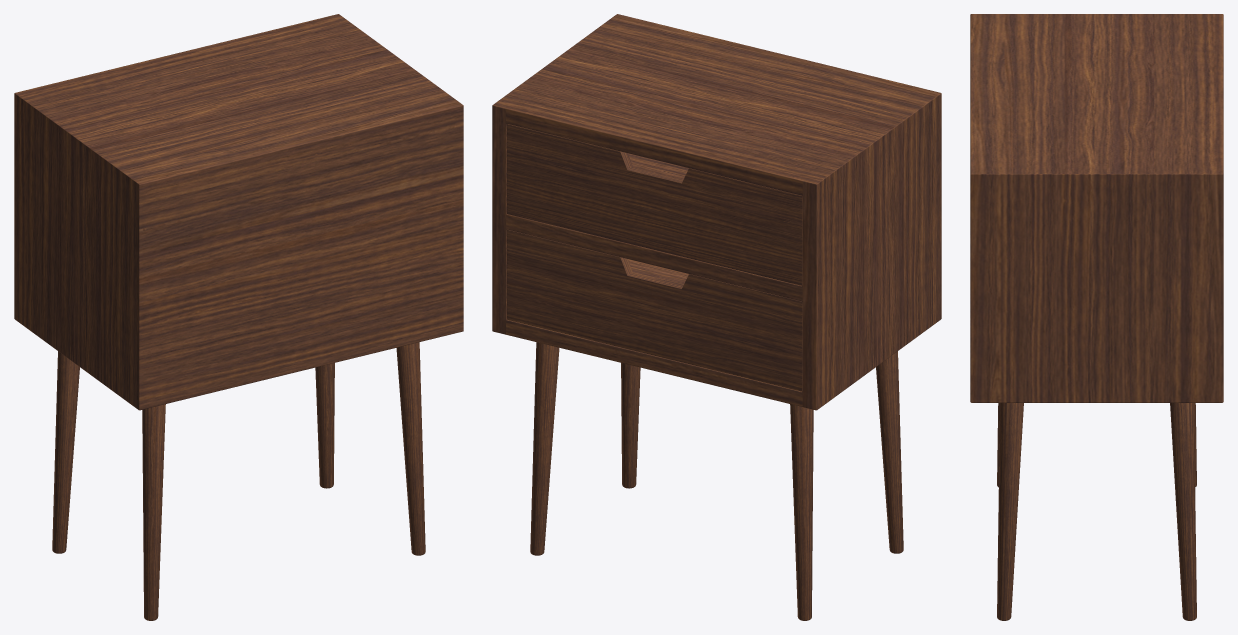
The model's file is Bedside.gltf.
The picture shows the model from 3 angles, left to right: view 1: azimuth 30°, elevation 25°; view 2: azimuth 150°, elevation 25°; view 3: azimuth 270°, elevation 25°; orthographic projection.
Visible parts, largest first — view 1: TEST2, Cylinder.027, Cylinder.030, Cylinder.029, Cylinder.031; view 2: TEST2, TEST2.002, TEST2.001, Cylinder.029, Cylinder.031, Cylinder.027, Cylinder.030; view 3: TEST2, Cylinder.030, Cylinder.031.
Part boxes in pixels (<box>): TEST2: <box>14,14,463,410</box>; Cylinder.027: <box>142,404,165,620</box>; Cylinder.030: <box>396,342,425,555</box>; Cylinder.029: <box>52,351,79,553</box>; Cylinder.031: <box>315,363,334,488</box>; TEST2: <box>492,14,941,410</box>; TEST2.002: <box>507,124,802,285</box>; TEST2.001: <box>507,229,802,391</box>; Cylinder.029: <box>790,404,813,620</box>; Cylinder.031: <box>530,342,559,555</box>; Cylinder.027: <box>876,351,903,553</box>; Cylinder.030: <box>621,363,640,488</box>; TEST2: <box>970,14,1223,402</box>; Cylinder.030: <box>997,403,1023,620</box>; Cylinder.031: <box>1170,403,1196,620</box>.
Bounding box in the file's own units: 0.4497 × 0.5999 × 0.3.
1 material, 1 textured.
